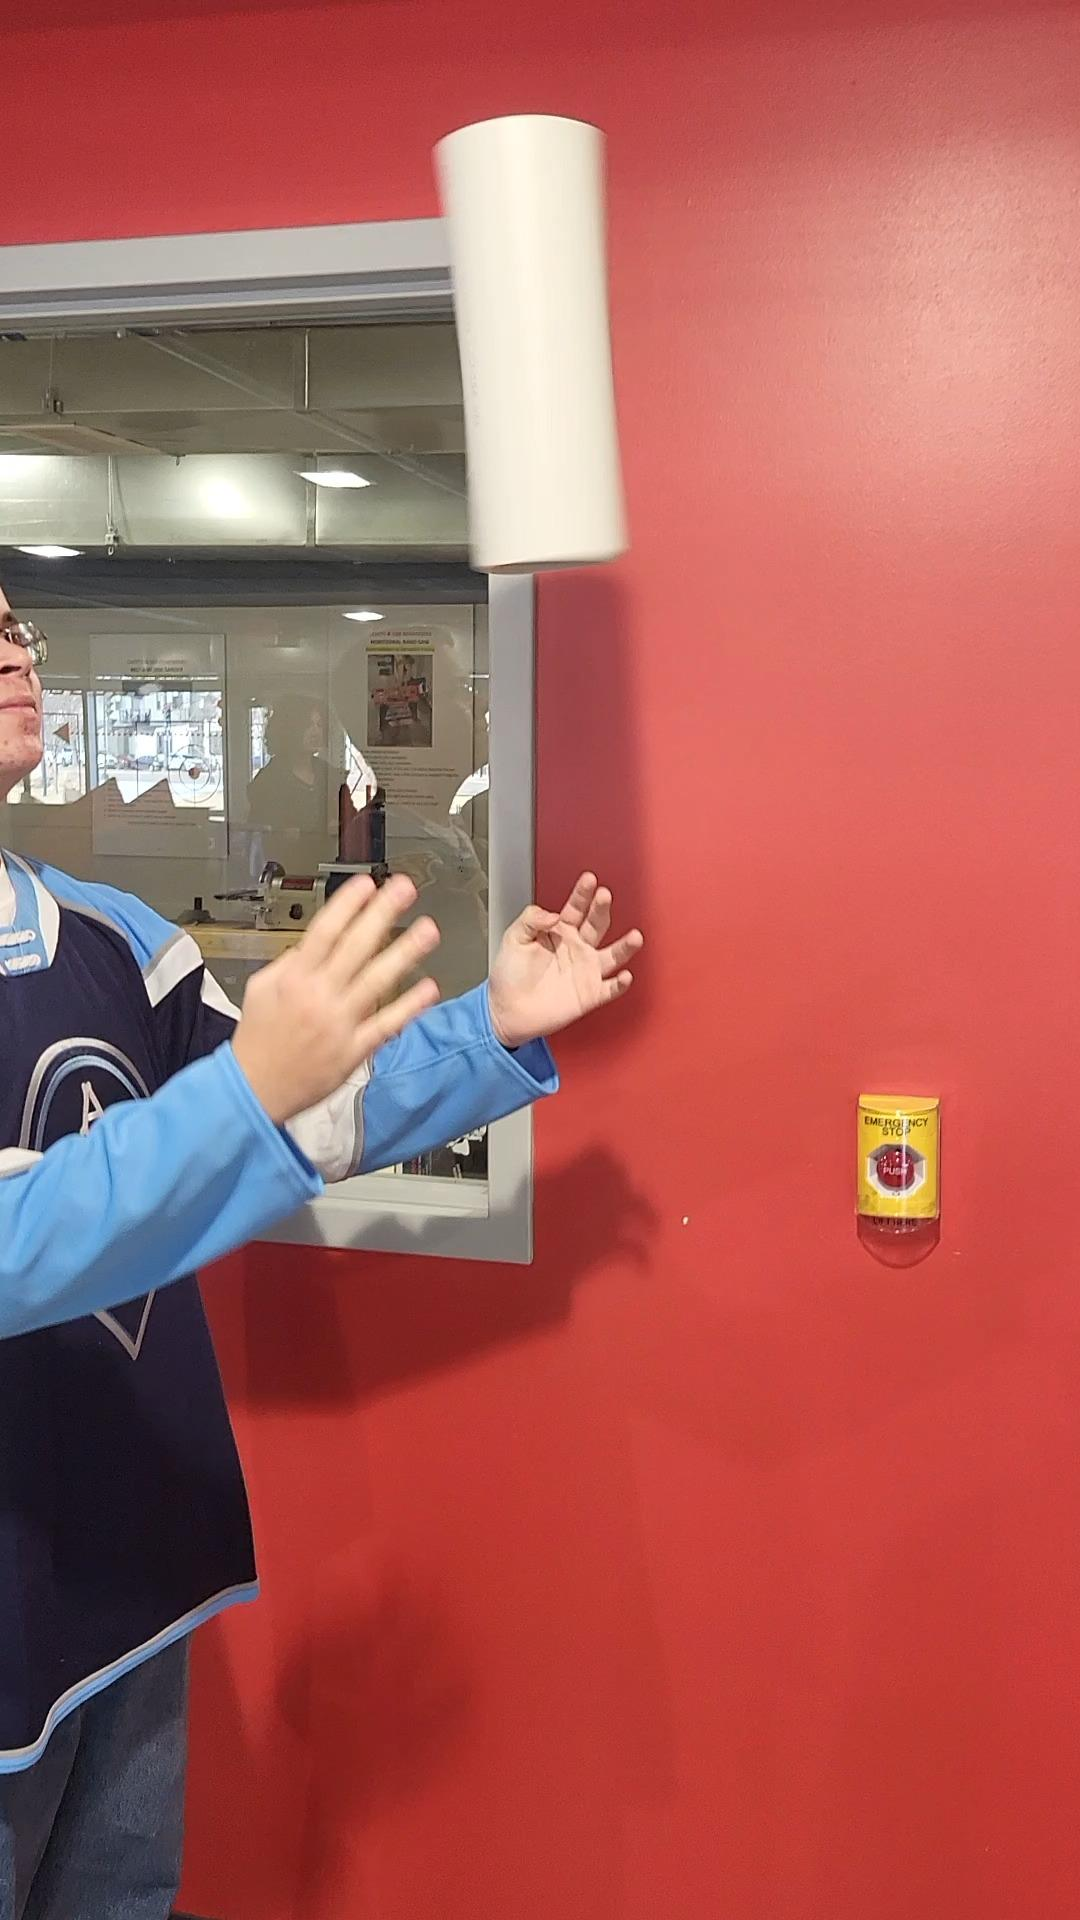coral: (430, 113, 644, 580)
